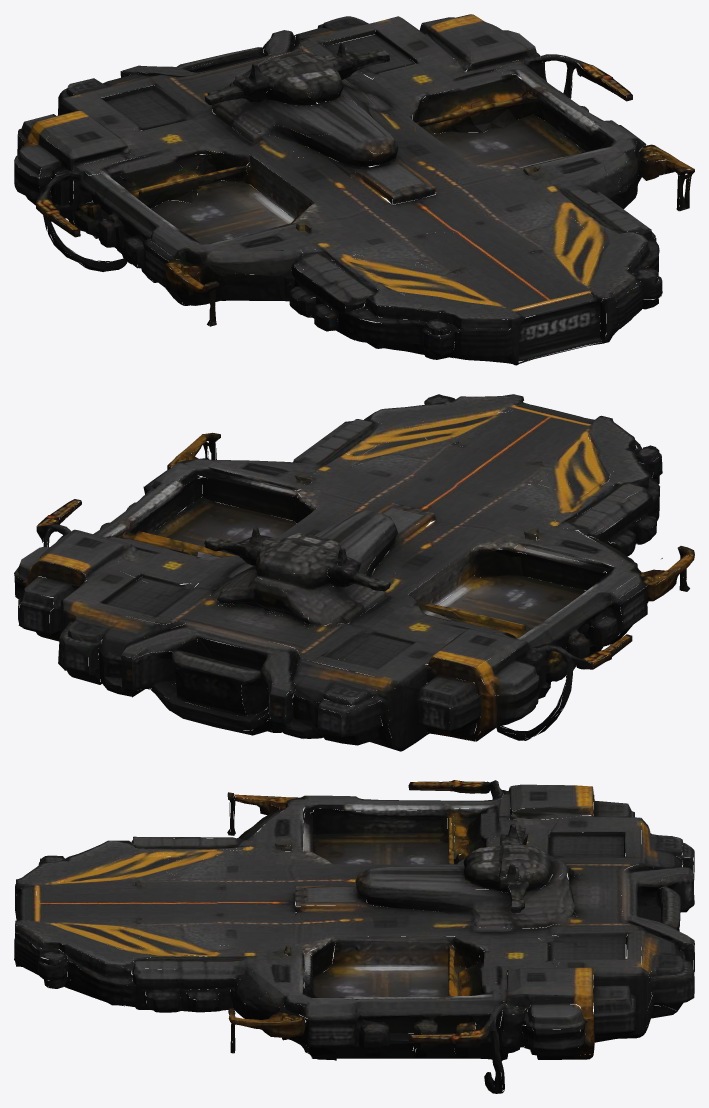
File: valkyr-carrier.glb
3 renders of one model, top to bottom at view 1: azimuth 30°, elevation 25°; view 2: azimuth 150°, elevation 25°; view 3: azimuth 270°, elevation 25°, orthographic. The views are drawn at different scales.
Parts seen in each view (by area): view 1: world; view 2: world; view 3: world.
Part boxes in pixels (x1,y1,x2,y2): world: [14, 14, 694, 365]; world: [14, 394, 694, 751]; world: [14, 780, 694, 1093].
Bounding box in the file's own units: 0.8992 × 0.2451 × 0.9966.
Materials: 1 (1 with a texture image).
